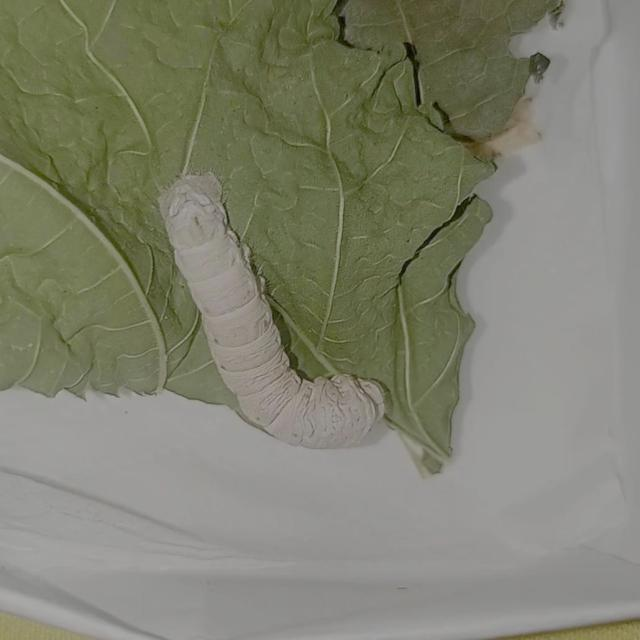Healthy: (137, 153, 415, 466)
